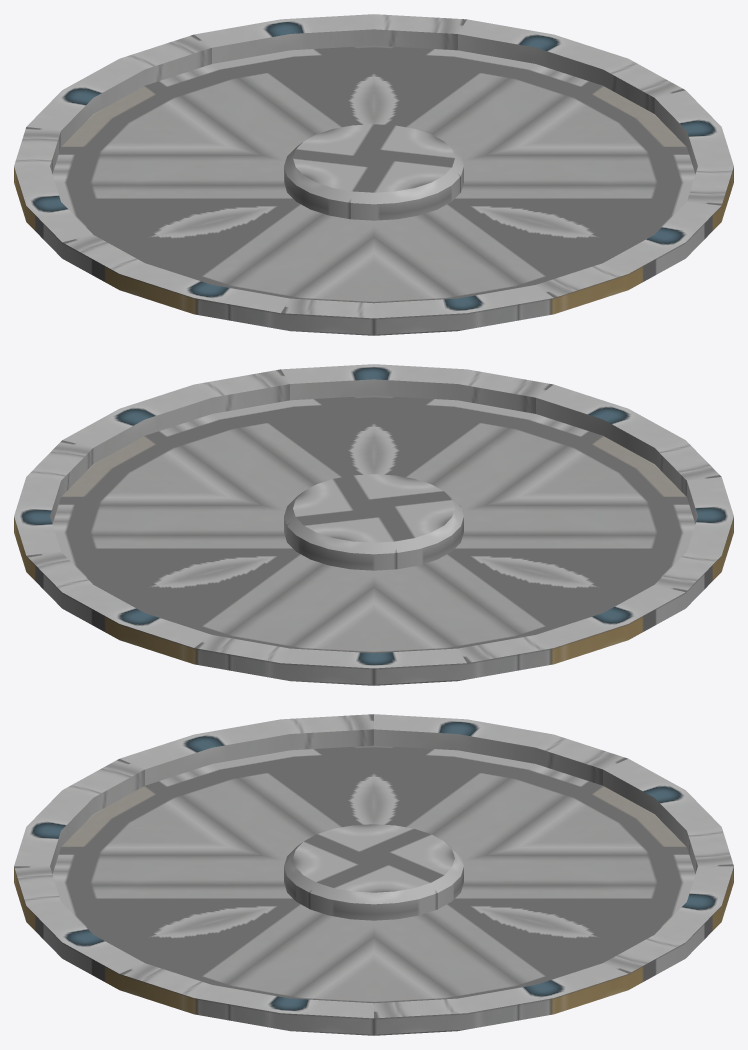
Rendered from Eridani_Mount_2.obj.
3 renders of one model, top to bottom at view 1: azimuth 30°, elevation 25°; view 2: azimuth 150°, elevation 25°; view 3: azimuth 270°, elevation 25°, orthographic.
Parts seen in each view (by area): view 1: Eridani_Mount_2; view 2: Eridani_Mount_2; view 3: Eridani_Mount_2.
Boxes of the visible parts, left/top/right/bottom form: Eridani_Mount_2: left=14, top=14, right=733, bottom=335; Eridani_Mount_2: left=14, top=364, right=733, bottom=685; Eridani_Mount_2: left=14, top=714, right=733, bottom=1035.
Bounding box in the file's own units: 2.5 × 0.2163 × 2.5.
